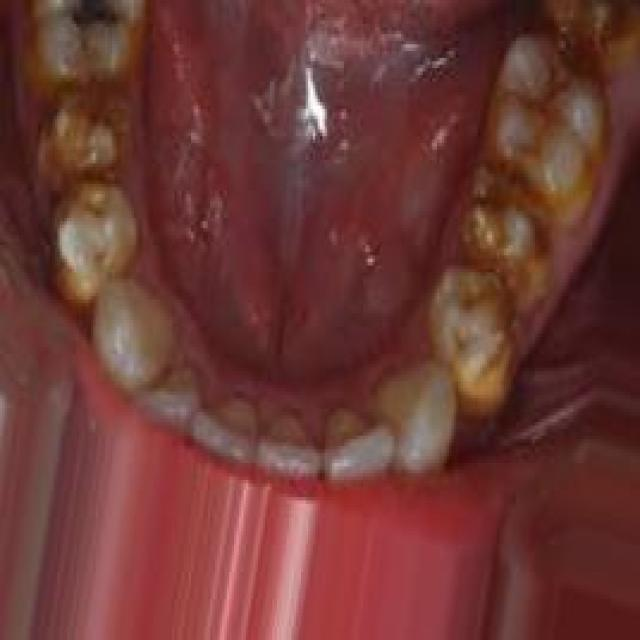caries: (55, 0, 125, 61)
